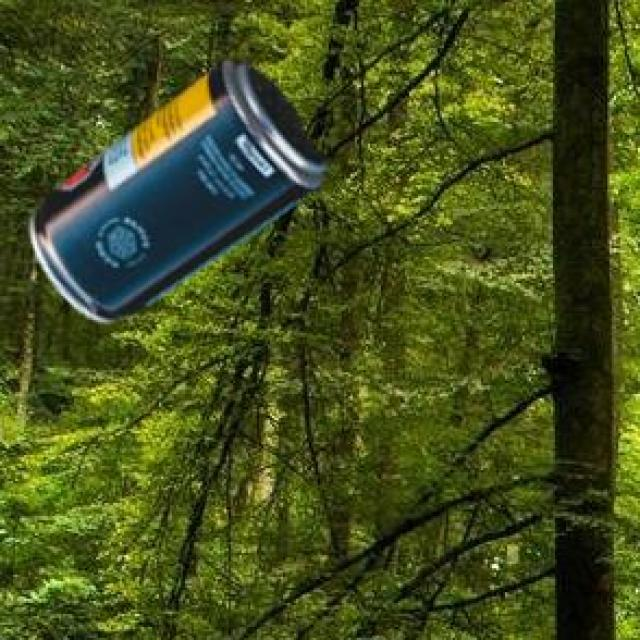logam: (34, 56, 330, 319)
